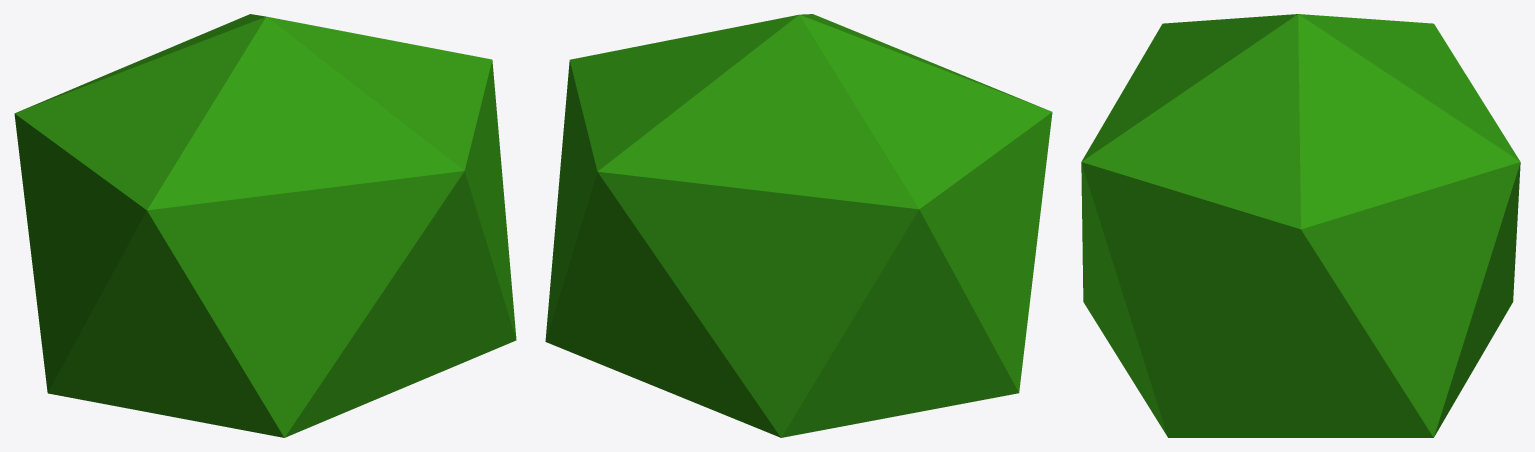
The model's file is bush.fbx.
3 renders of one model, left to right at view 1: azimuth 30°, elevation 25°; view 2: azimuth 150°, elevation 25°; view 3: azimuth 270°, elevation 25°, orthographic. The views are drawn at different scales.
Visible parts, largest first — view 1: Icosphere; view 2: Icosphere; view 3: Icosphere.
Boxes of the visible parts, x1,y1,x2,y2 form: Icosphere: (14, 14, 516, 437); Icosphere: (545, 14, 1052, 437); Icosphere: (1081, 14, 1520, 437).
Size of the model in its own units: 2.09 by 1.45 by 1.74.
